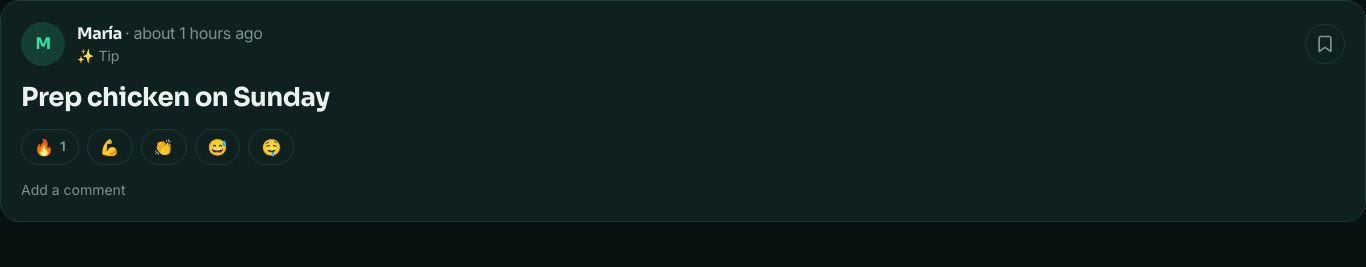
reactions › rolls back and says why when the write fails
The image size is (1366, 267).
Click the button named "🔥 reaction" at (50, 147), box [21, 129, 79, 165]
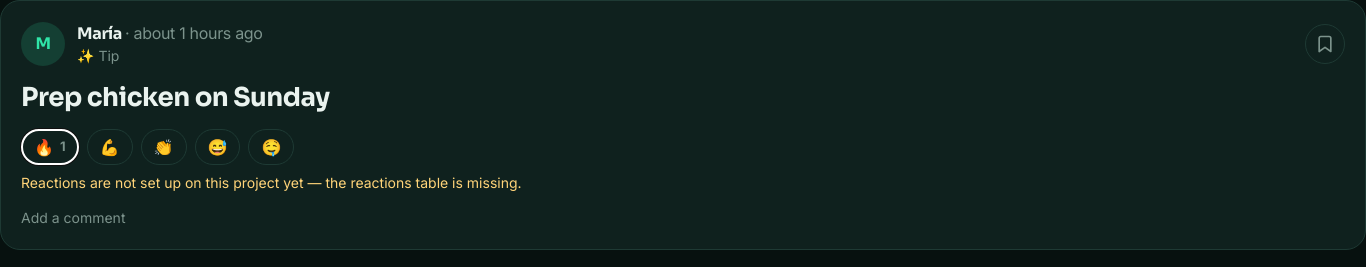
Now the text "Reactions are not set up on this project yet — the reactions table is missing." is shown, box [21, 174, 522, 191]
